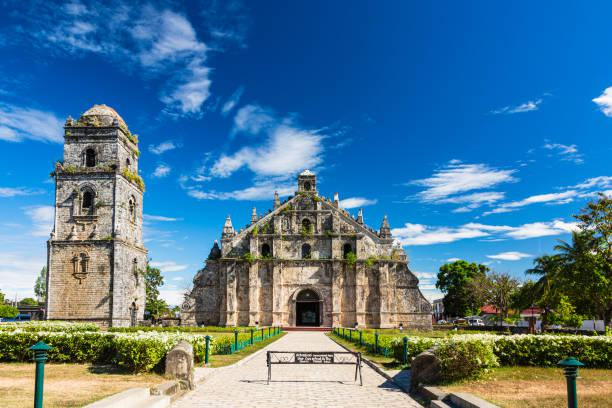Environmental Damage: (117, 167, 148, 192), (114, 120, 141, 147), (62, 164, 114, 176), (241, 249, 279, 265)
Paoay Church: (43, 92, 434, 332)
